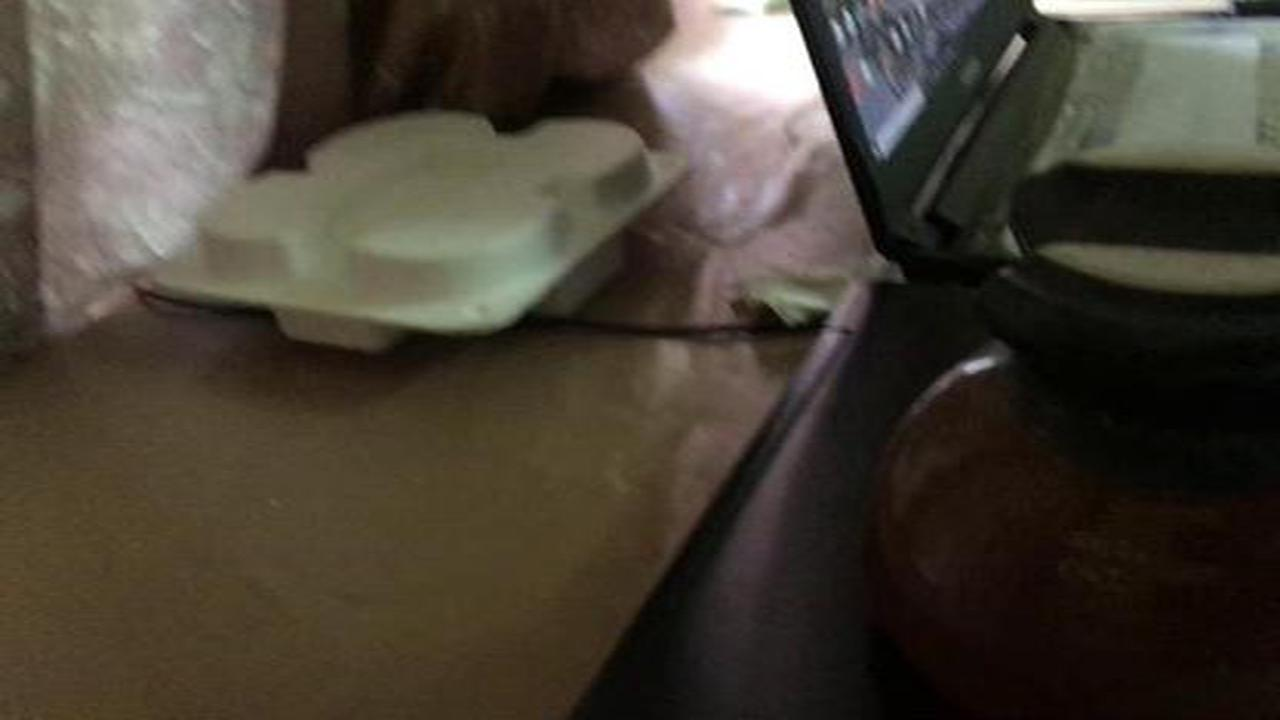insulator_pin: (856, 127, 1280, 720)
